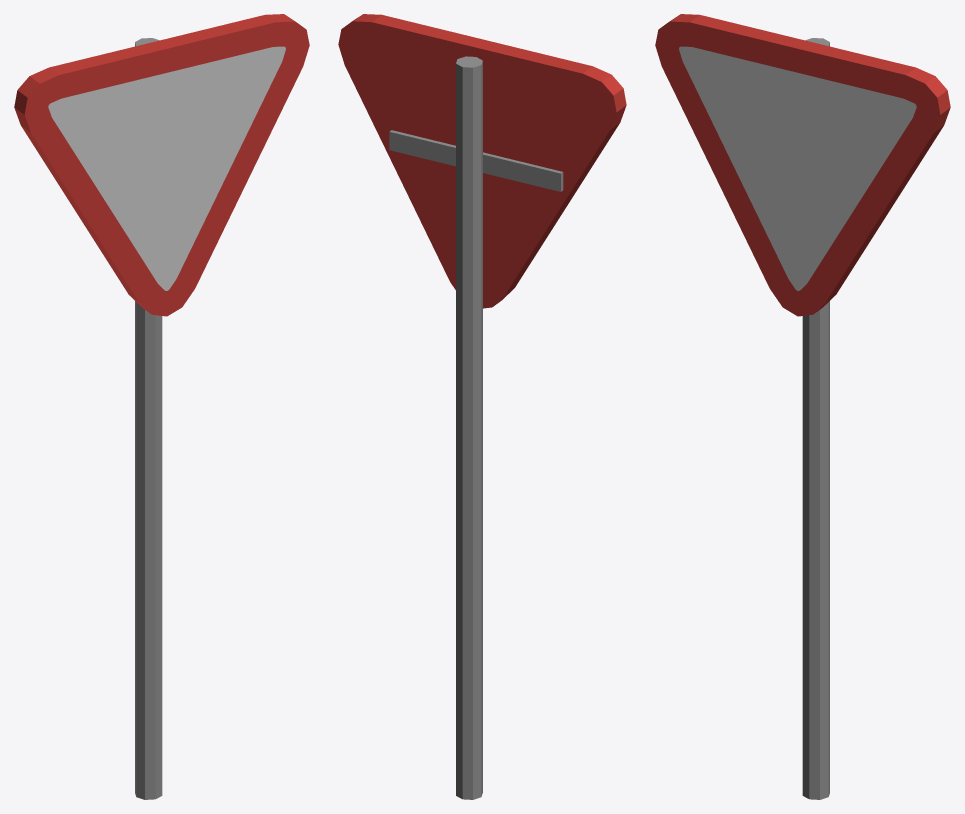
The model's file is RoadSign_03.fbx.
3 views of the same model, side by side, from view 1: azimuth 30°, elevation 25°; view 2: azimuth 150°, elevation 25°; view 3: azimuth 330°, elevation 25° (orthographic). The views are drawn at different scales.
Visible parts, largest first — view 1: RoadSign_03; view 2: RoadSign_03; view 3: RoadSign_03.
Part boxes in pixels (x1,y1,x2,y2): RoadSign_03: (14,14,309,799); RoadSign_03: (338,14,626,799); RoadSign_03: (655,14,950,799).
Bounding box in the file's own units: 70.09 × 178 × 10.92.
